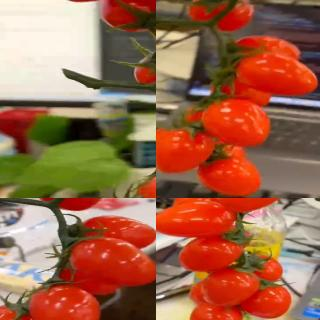tomato: (67, 236, 156, 287), (235, 54, 319, 99), (203, 98, 273, 150), (156, 202, 237, 239), (196, 156, 261, 198), (80, 214, 156, 249), (156, 126, 215, 171), (29, 284, 100, 320), (202, 266, 259, 307), (210, 74, 276, 109), (180, 235, 243, 271), (186, 0, 255, 32), (228, 34, 300, 64), (238, 285, 292, 320), (99, 0, 156, 31), (217, 198, 289, 213), (133, 51, 156, 96), (189, 302, 244, 320), (35, 198, 105, 211), (171, 198, 226, 212), (252, 257, 282, 282)
